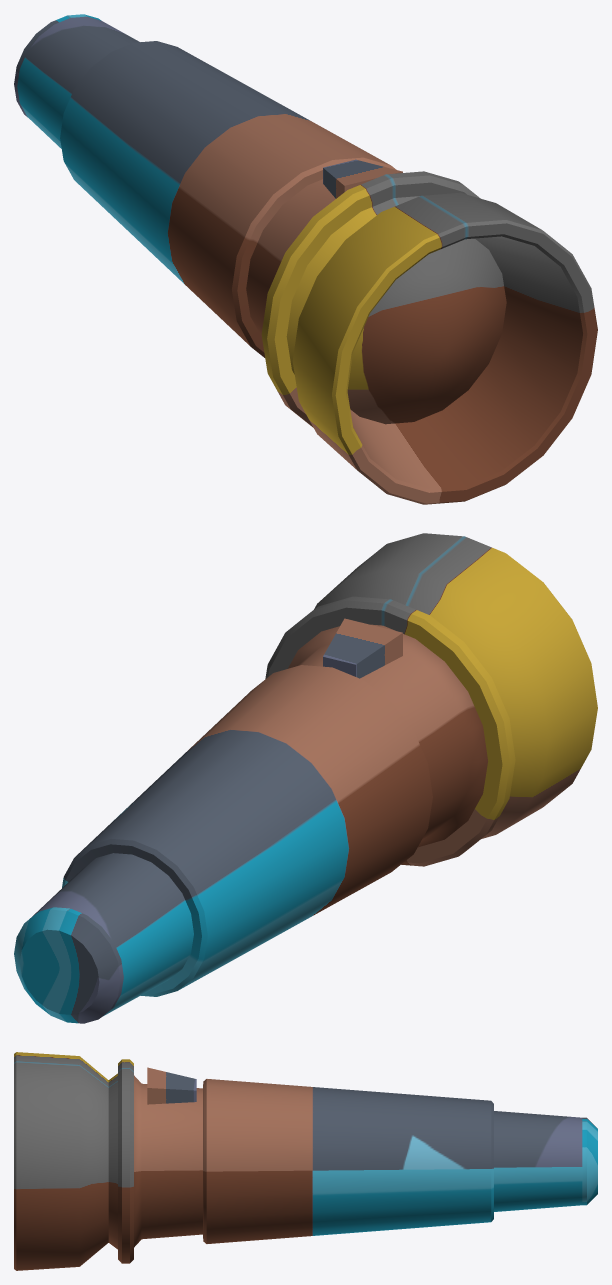
Rendered from Torch.fbx.
The picture shows the model from 3 angles, top to bottom: view 1: azimuth 30°, elevation 25°; view 2: azimuth 150°, elevation 25°; view 3: azimuth 270°, elevation 25°; orthographic projection. The views are drawn at different scales.
Visible parts, largest first — view 1: polySurface47; view 2: polySurface47; view 3: polySurface47.
Part boxes in pixels (x1,y1,x2,y2): polySurface47: [14, 14, 597, 504]; polySurface47: [14, 533, 597, 1023]; polySurface47: [14, 1052, 597, 1270].
Bounding box in the file's own units: 11.17 × 11.17 × 29.59.
